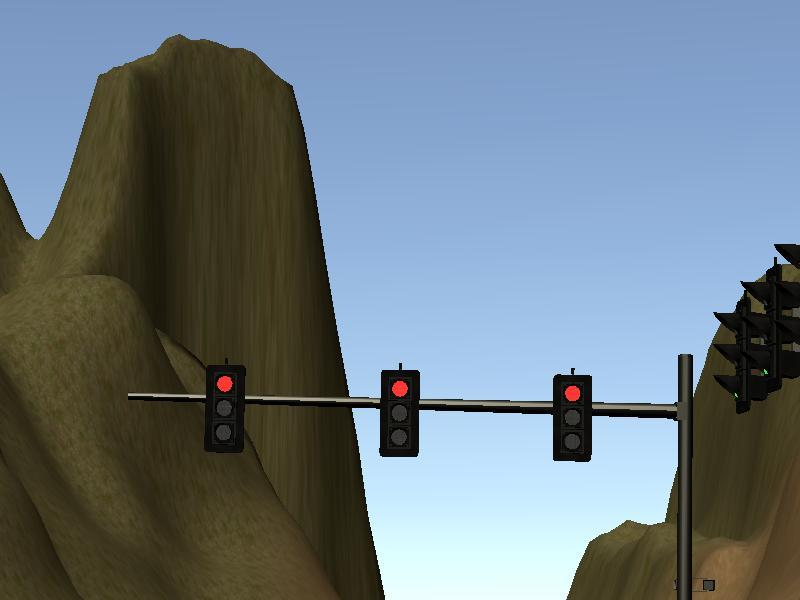Red: (206, 366, 244, 453), (553, 375, 591, 462), (380, 369, 418, 456)
